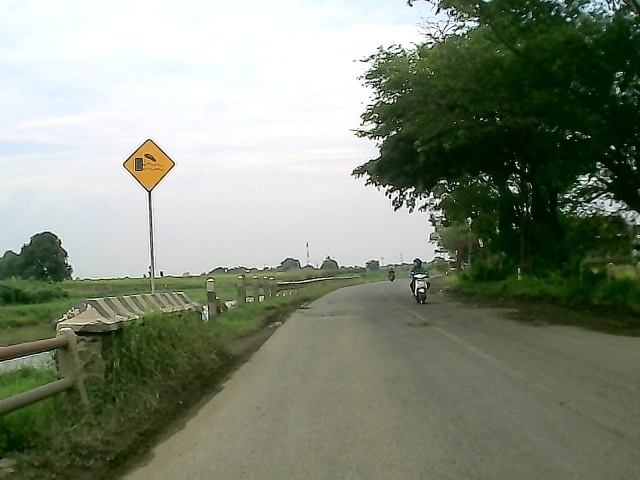Peringatan tepi air: (121, 135, 179, 194)
